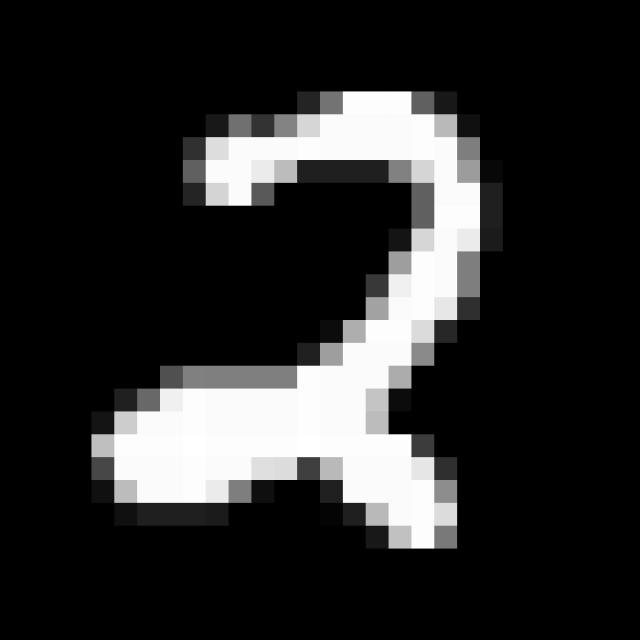two -2-: (82, 87, 498, 564)
